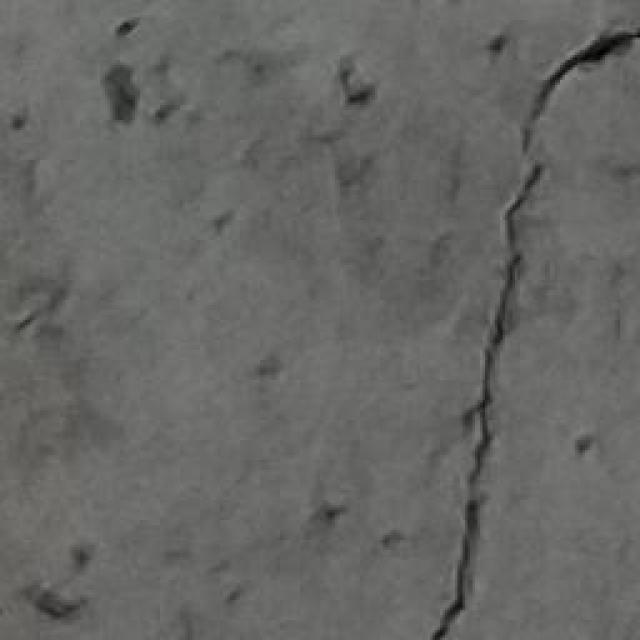Longitudinal: (415, 27, 640, 640)
